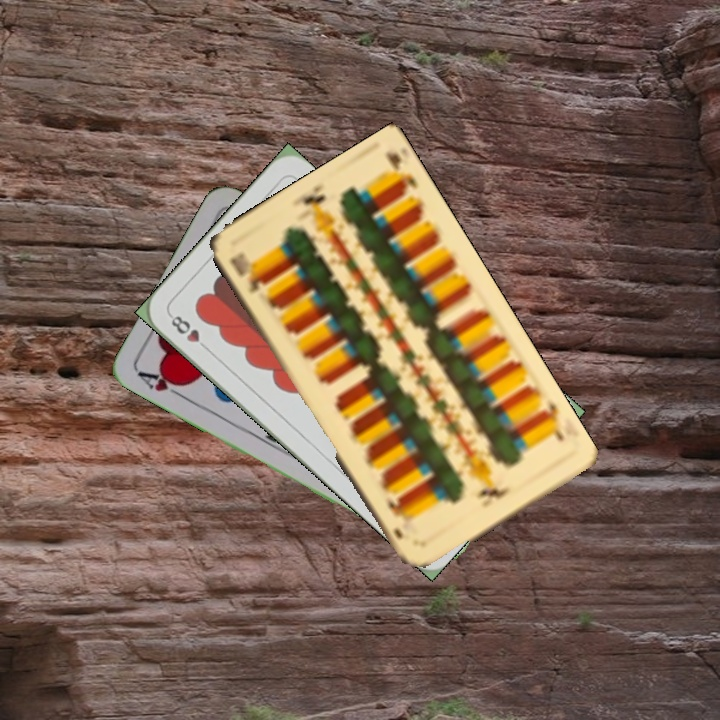E10: (226, 248, 268, 296), (534, 396, 566, 444)
H8: (166, 310, 214, 355)
HA: (134, 367, 189, 402)
